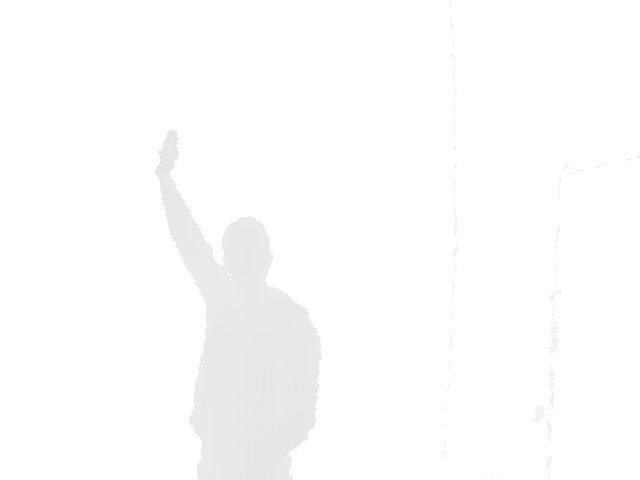hand: (154, 129, 180, 175)
head: (220, 216, 273, 287)
person: (155, 129, 324, 480)
